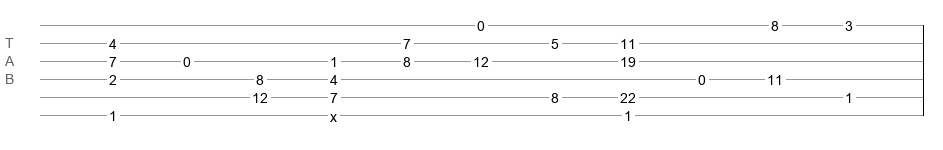0: (183, 54, 191, 64), (477, 18, 485, 28), (698, 72, 706, 82)
1: (109, 108, 117, 118), (330, 54, 338, 64), (624, 108, 632, 118), (845, 90, 853, 100)
11: (620, 36, 636, 46), (767, 72, 783, 82)
12: (252, 90, 268, 100), (473, 54, 489, 64)
19: (620, 54, 636, 64)
2: (109, 72, 117, 82)
22: (620, 90, 636, 100)
3: (845, 18, 853, 28)
4: (109, 36, 117, 46), (330, 72, 338, 82)
5: (551, 36, 559, 46)
7: (109, 54, 117, 64), (330, 90, 338, 100), (403, 36, 411, 46)
8: (256, 72, 264, 82), (403, 54, 411, 64), (551, 90, 559, 100), (771, 18, 779, 28)
x: (330, 109, 337, 117)
